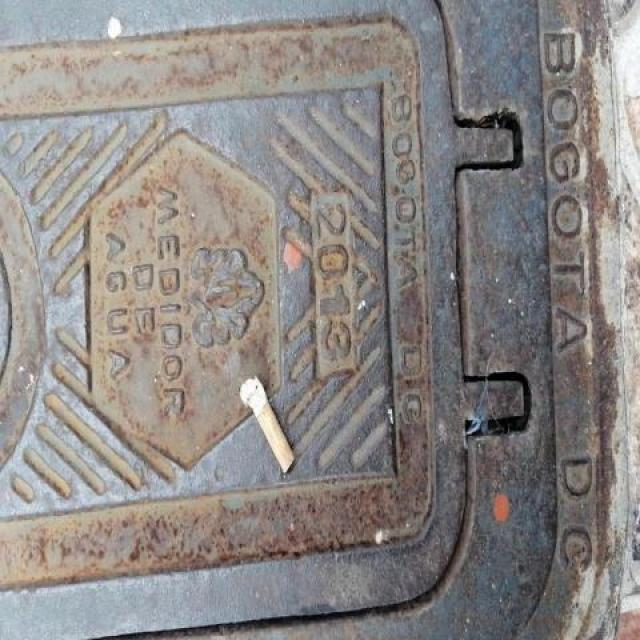non-organic waste: (237, 370, 299, 478)
